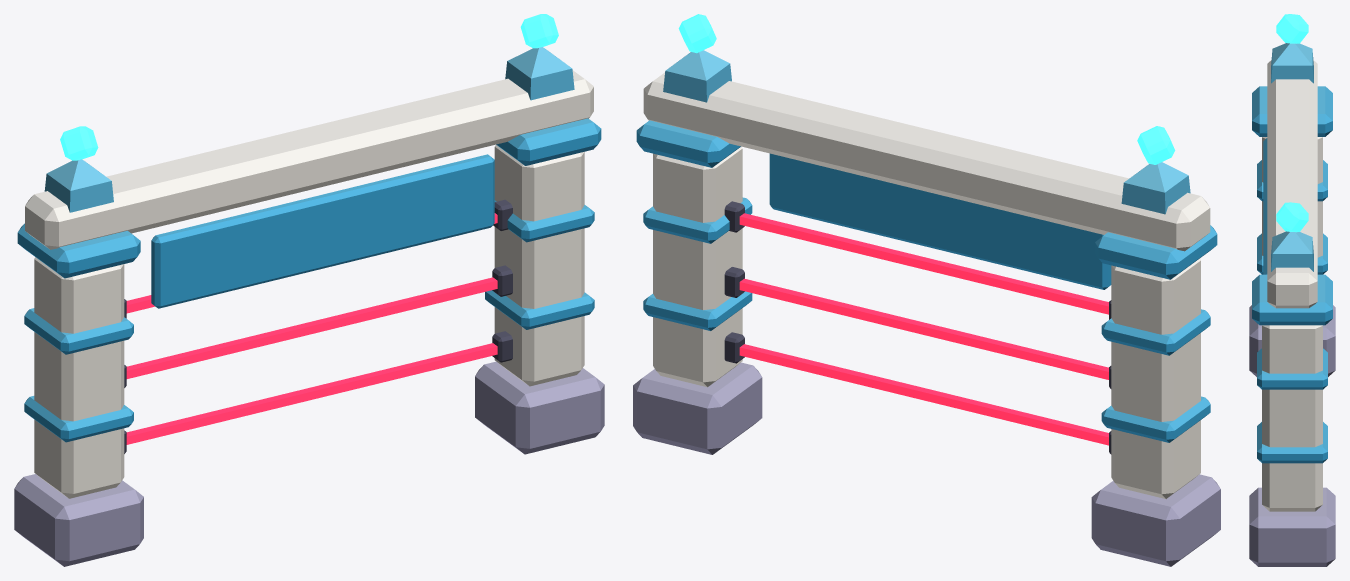
The model's file is Gate_7.glb.
3 views of the same model, side by side, from view 1: azimuth 30°, elevation 25°; view 2: azimuth 150°, elevation 25°; view 3: azimuth 270°, elevation 25° (orthographic). The views are drawn at different scales.
Parts seen in each view (by area): view 1: Gate_7, Gate_7_Glow_laser, Gate_7_Glow_acc7; view 2: Gate_7, Gate_7_Glow_laser, Gate_7_Glow_acc7; view 3: Gate_7, Gate_7_Glow_acc7.
Boxes of the visible parts, bbox=[...] form: Gate_7: bbox=[14, 47, 604, 566]; Gate_7_Glow_laser: bbox=[126, 213, 497, 444]; Gate_7_Glow_acc7: bbox=[60, 14, 558, 160]; Gate_7: bbox=[633, 50, 1220, 566]; Gate_7_Glow_laser: bbox=[739, 213, 1108, 445]; Gate_7_Glow_acc7: bbox=[678, 14, 1175, 164]; Gate_7: bbox=[1249, 43, 1335, 566]; Gate_7_Glow_acc7: bbox=[1276, 14, 1308, 232].
Size of the model in its own units: 21 by 15.25 by 3.4.
3 materials, 1 textured.
